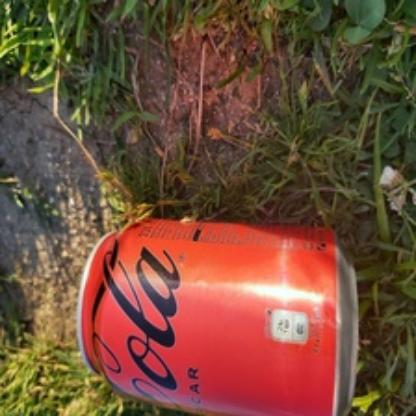Can: (72, 220, 358, 416)
